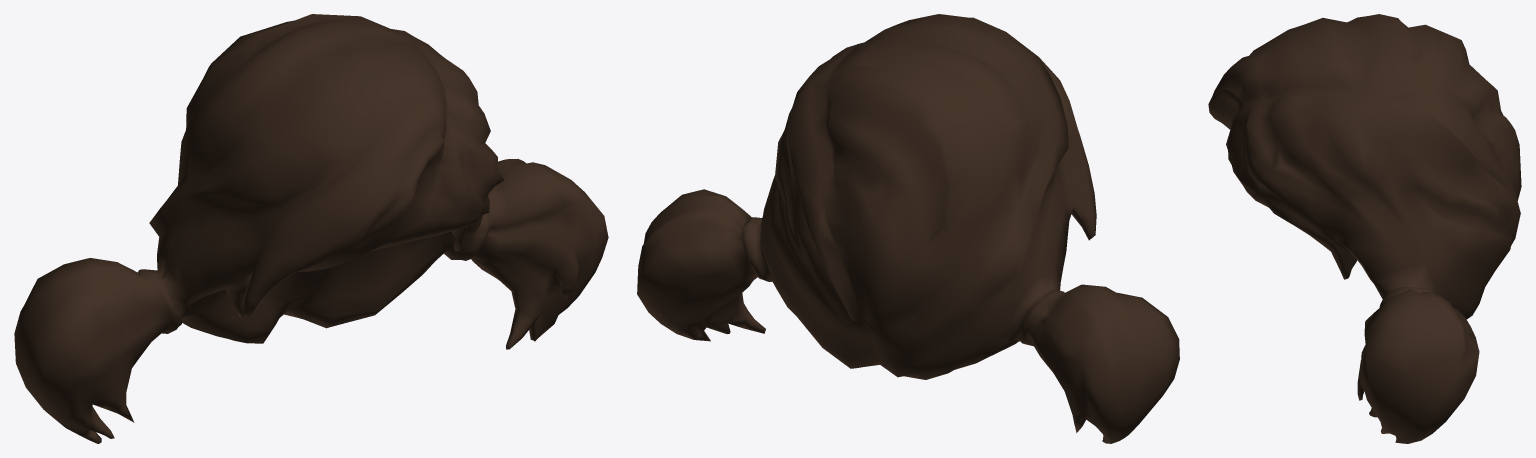
Rendered from hair_w01.glb.
The picture shows the model from 3 angles, left to right: view 1: azimuth 30°, elevation 25°; view 2: azimuth 150°, elevation 25°; view 3: azimuth 270°, elevation 25°; orthographic projection. The views are drawn at different scales.
Visible parts, largest first — view 1: hair_w01; view 2: hair_w01; view 3: hair_w01.
Boxes of the visible parts, <box> form: hair_w01: <box>14,14,608,443</box>; hair_w01: <box>637,14,1179,443</box>; hair_w01: <box>1208,14,1521,443</box>.
Bounding box in the file's own units: 0.3809 × 0.2397 × 0.2108.
